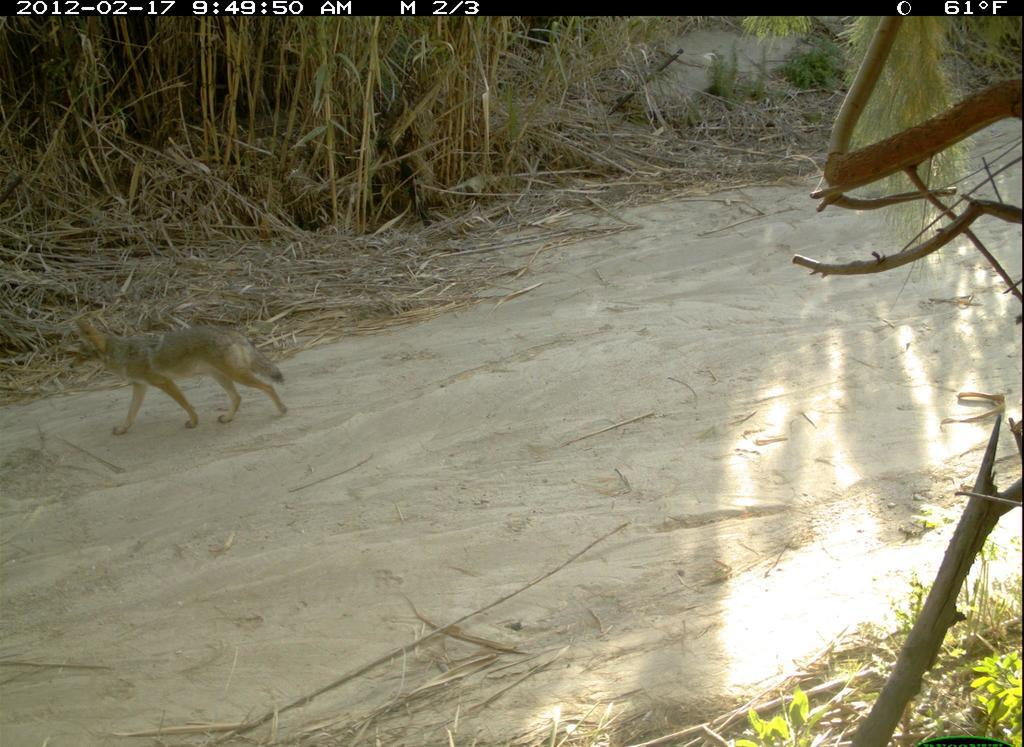coyote: (61, 314, 323, 469)
